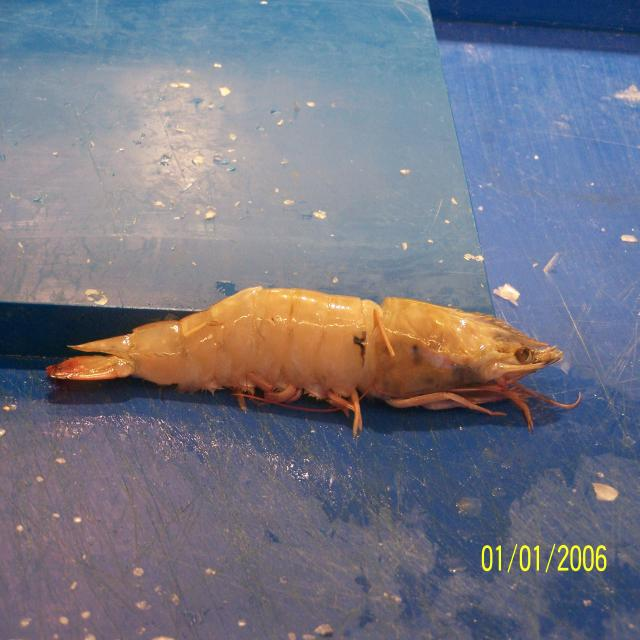Shrimp-karides-: (45, 287, 576, 438)
